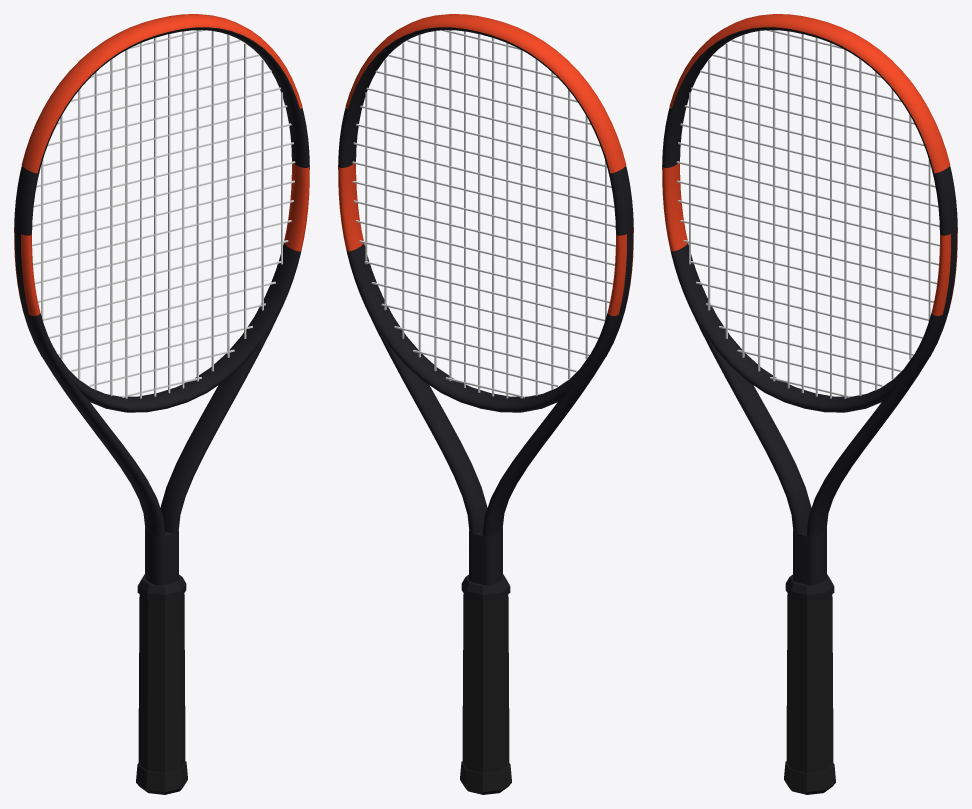
File: babolat-evoke-102.glb
3 renders of one model, left to right at view 1: azimuth 30°, elevation 25°; view 2: azimuth 150°, elevation 25°; view 3: azimuth 330°, elevation 25°, orthographic.
Parts seen in each view (by area): view 1: frame, strings_mains, strings_crosses, grip, bumper, grommets, butt_cap, collar; view 2: frame, strings_mains, strings_crosses, grip, bumper, grommets, butt_cap, collar; view 3: frame, strings_mains, strings_crosses, grip, bumper, grommets, butt_cap, collar.
Part boxes in pixels (x1=…): frame: x1=14, y1=27, x2=309, y2=585; strings_mains: x1=41, y1=30, x2=282, y2=398; strings_crosses: x1=32, y1=30, x2=295, y2=397; grip: x1=138, y1=593, x2=185, y2=772; bumper: x1=21, y1=14, x2=302, y2=173; grommets: x1=14, y1=166, x2=47, y2=360; butt_cap: x1=136, y1=761, x2=187, y2=794; collar: x1=137, y1=574, x2=186, y2=601; frame: x1=338, y1=27, x2=633, y2=585; strings_mains: x1=365, y1=30, x2=606, y2=398; strings_crosses: x1=352, y1=30, x2=615, y2=398; grip: x1=462, y1=593, x2=509, y2=772; bumper: x1=345, y1=14, x2=626, y2=173; grommets: x1=600, y1=166, x2=633, y2=360; butt_cap: x1=460, y1=761, x2=511, y2=794; collar: x1=461, y1=574, x2=510, y2=601; frame: x1=662, y1=27, x2=957, y2=585; strings_mains: x1=689, y1=30, x2=930, y2=398; strings_crosses: x1=676, y1=30, x2=939, y2=397; grip: x1=786, y1=593, x2=833, y2=772; bumper: x1=669, y1=14, x2=950, y2=173; grommets: x1=924, y1=166, x2=957, y2=360; butt_cap: x1=784, y1=761, x2=835, y2=794; collar: x1=785, y1=574, x2=834, y2=601.
Size of the model in its own units: 0.2721 by 0.6861 by 0.0396.
